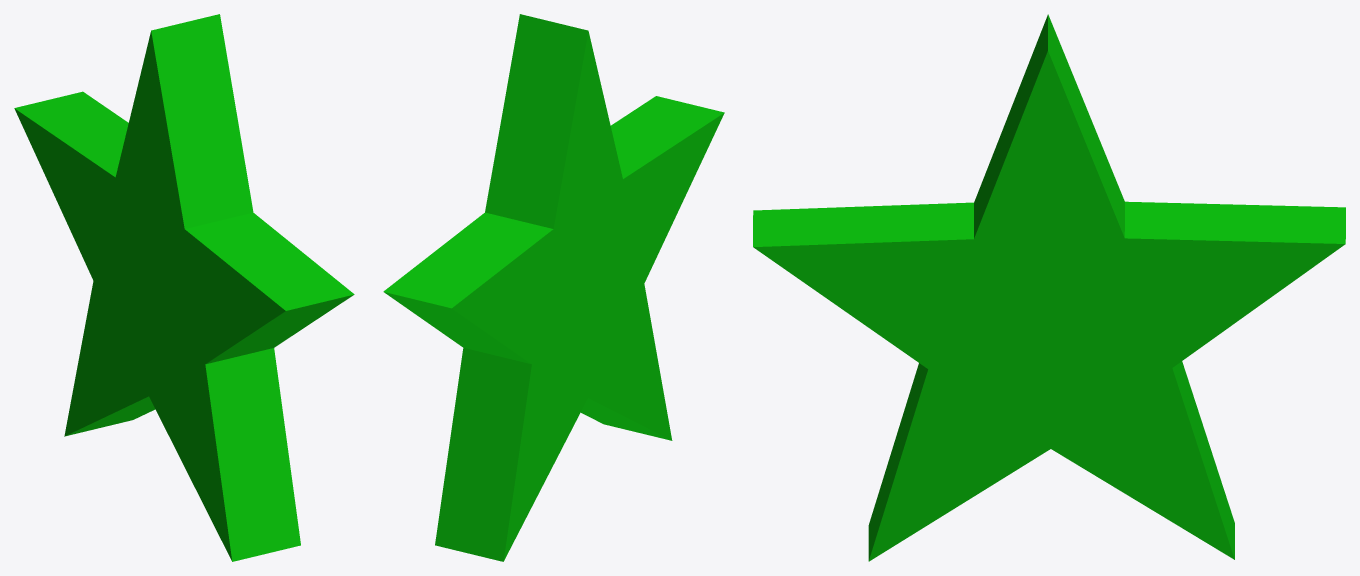
The model's file is star.obj.
3 renders of one model, left to right at view 1: azimuth 30°, elevation 25°; view 2: azimuth 150°, elevation 25°; view 3: azimuth 270°, elevation 25°, orthographic. The views are drawn at different scales.
Visible parts, largest first — view 1: greenstar_Circle_Circle.001; view 2: greenstar_Circle_Circle.001; view 3: greenstar_Circle_Circle.001.
Boxes of the visible parts, bbox=[...] form: greenstar_Circle_Circle.001: bbox=[14, 14, 354, 561]; greenstar_Circle_Circle.001: bbox=[383, 14, 724, 561]; greenstar_Circle_Circle.001: bbox=[753, 14, 1345, 561].
Size of the model in its own units: 1.45 by 9.29 by 9.74.
